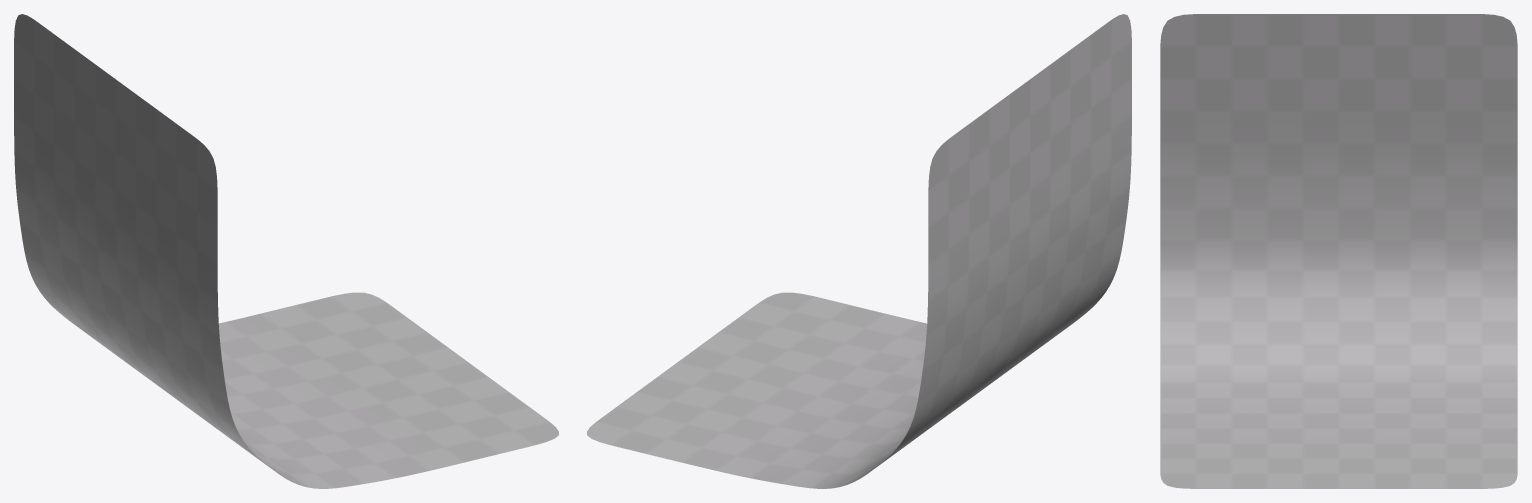
File: TestSceneCurve.obj
The picture shows the model from 3 angles, left to right: view 1: azimuth 30°, elevation 25°; view 2: azimuth 150°, elevation 25°; view 3: azimuth 270°, elevation 25°; orthographic projection. The views are drawn at different scales.
Parts seen in each view (by area): view 1: Plane; view 2: Plane; view 3: Plane.
Boxes of the visible parts, x1=… form: Plane: x1=14, y1=14, x2=558, y2=488; Plane: x1=587, y1=14, x2=1131, y2=488; Plane: x1=1160, y1=14, x2=1517, y2=488.
Size of the model in its own units: 2 by 2 by 2.
1 material, 1 textured.
